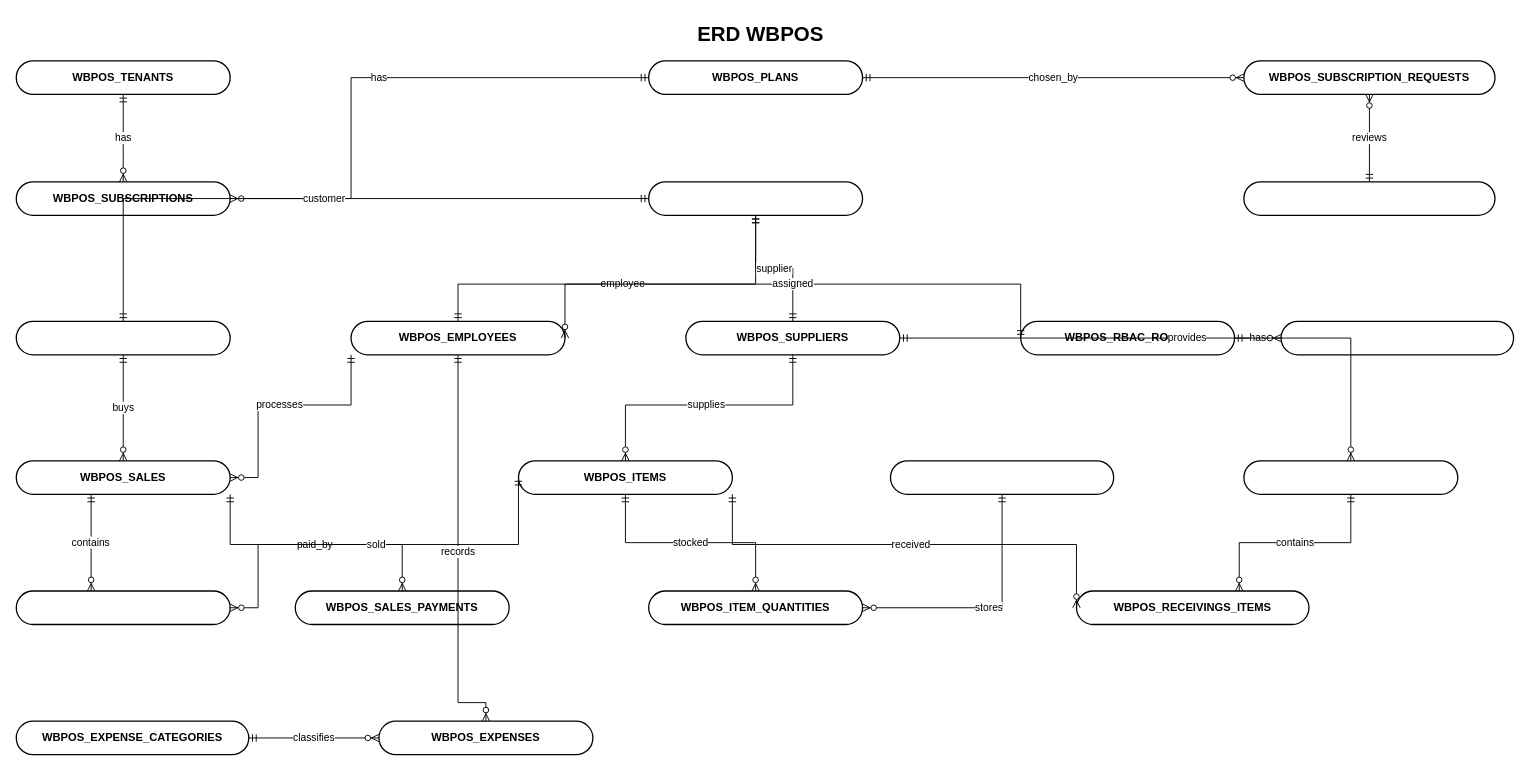
This 1531x771 diagram has some shape labels left out. The centre of each missing label's shape, as x and y in pixels:
"WBPOS_CUSTOMERS" belongs at (122,337).
"WBPOS_PEOPLE" belongs at (755,198).
"WBPOS_PLATFORM_ADMINS" belongs at (1369,198).
"WBPOS_RBAC_PERMISSIONS" belongs at (1397,337).
"WBPOS_RECEIVINGS" belongs at (1350,477).
"WBPOS_SALES_ITEMS" belongs at (122,607).
"WBPOS_STOCK_LOCATIONS" belongs at (1001,477).
